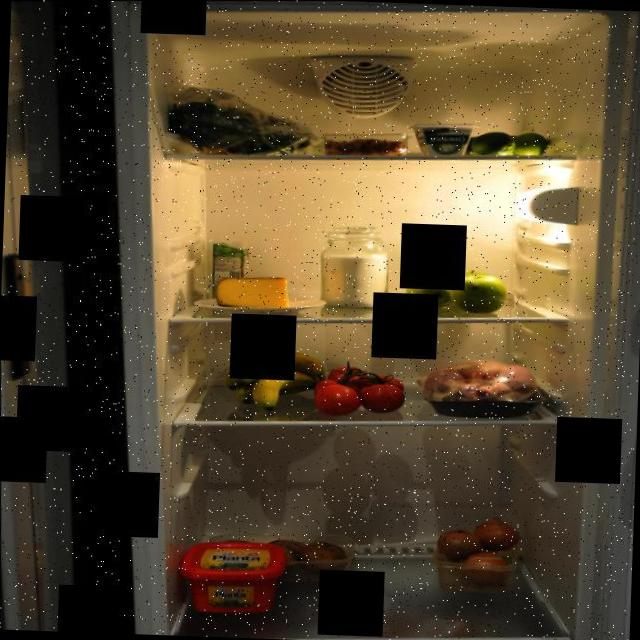Carne pollo: (416, 354, 550, 421)
Cebolla: (428, 511, 527, 590)
Gambas/Langostinos: (320, 131, 404, 162)
Mantequilla: (181, 536, 292, 616)
Manzana: (398, 264, 514, 316)
Patata: (264, 532, 358, 584)
Plátano: (217, 342, 327, 412)
Queso: (212, 270, 292, 312)
Tomate: (305, 356, 411, 418)
